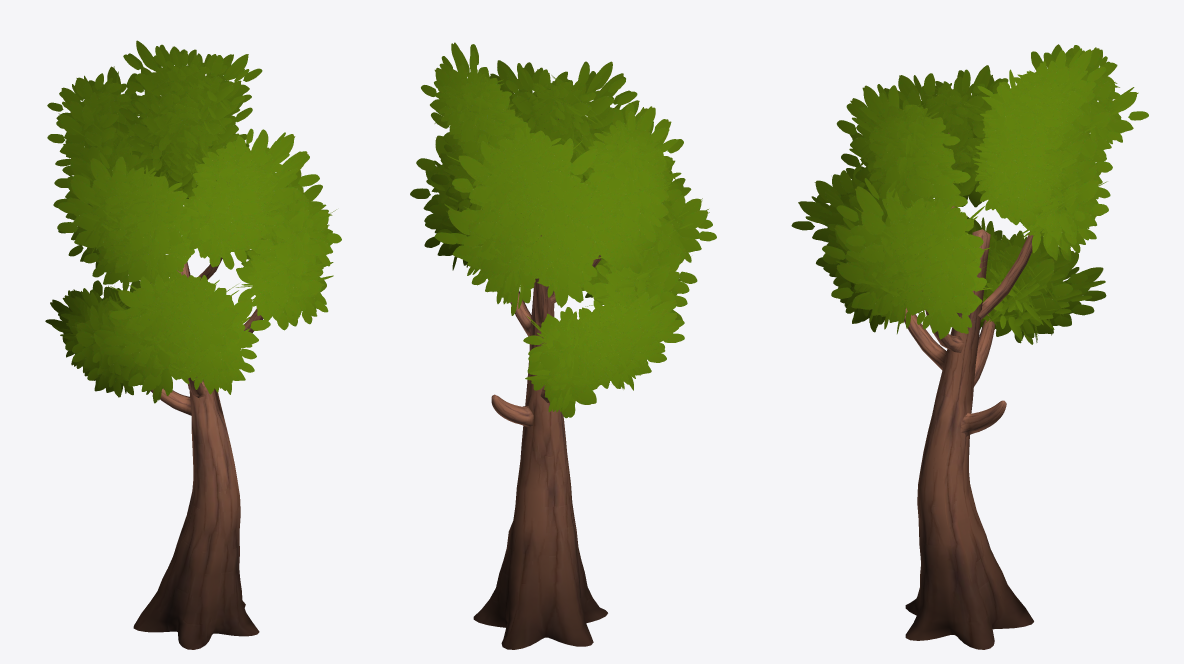
File: sn_common_tree_5.glb
The picture shows the model from 3 angles, left to right: view 1: azimuth 30°, elevation 25°; view 2: azimuth 150°, elevation 25°; view 3: azimuth 270°, elevation 25°; orthographic projection. The views are drawn at different scales.
Parts seen in each view (by area): view 1: CommonTree_5; view 2: CommonTree_5; view 3: CommonTree_5.
Part boxes in pixels (left/top/right/bottom): CommonTree_5: left=45, top=40, right=341, bottom=649; CommonTree_5: left=410, top=42, right=716, bottom=649; CommonTree_5: left=791, top=44, right=1148, bottom=649.
Bounding box in the file's own units: 3.67 × 7.01 × 4.22.
Materials: 2 (2 with a texture image).
